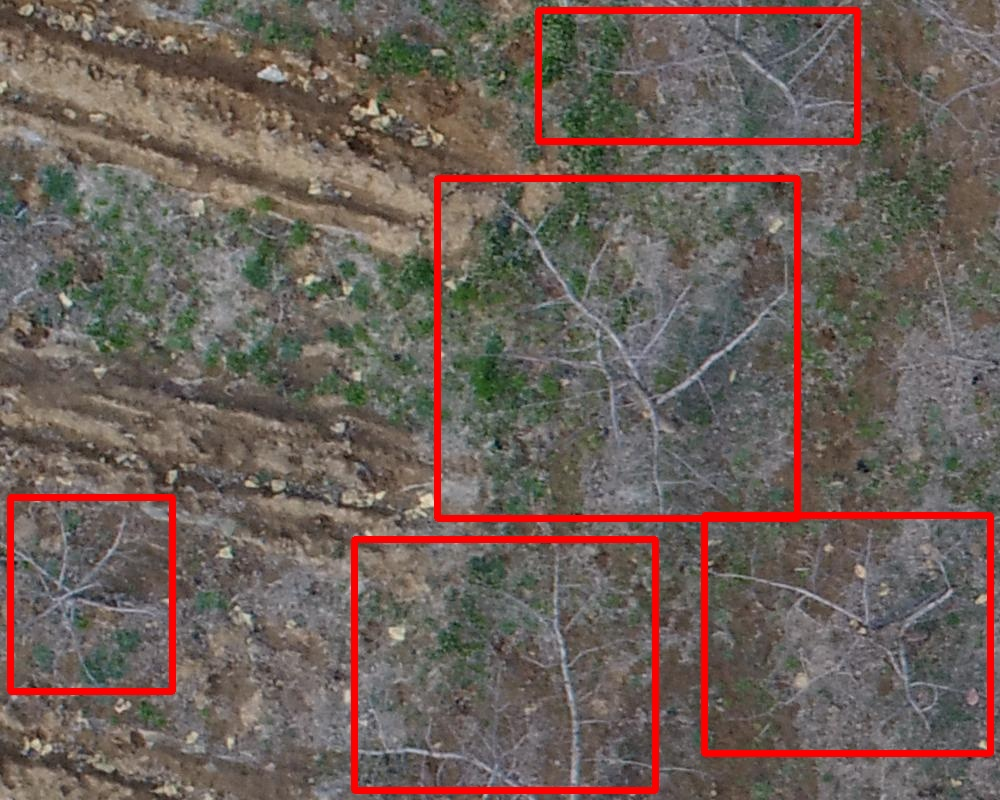apple: (437, 178, 797, 518), (354, 539, 655, 790), (704, 515, 990, 753), (538, 10, 857, 141), (10, 497, 172, 691)
